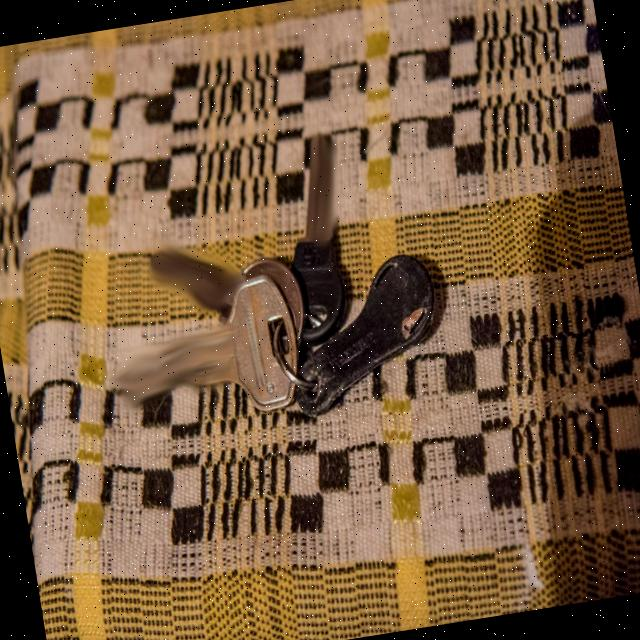Frontdoor keys: (92, 228, 318, 430), (252, 127, 366, 346)
